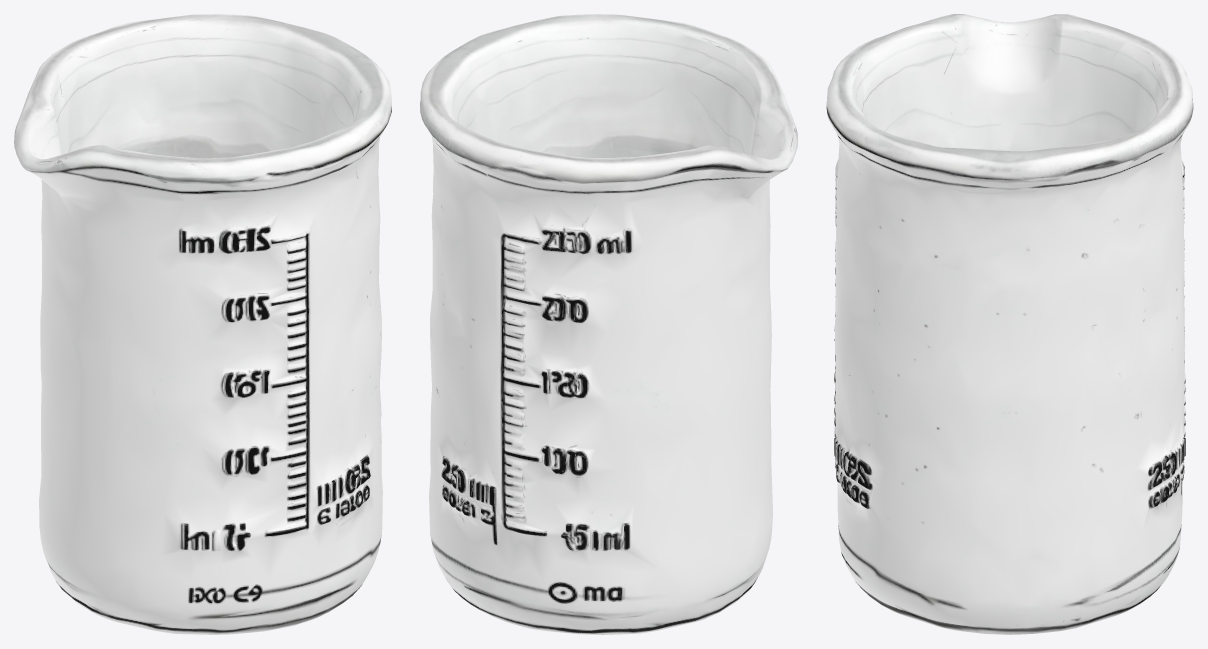
File: beaker.glb
3 views of the same model, side by side, from view 1: azimuth 30°, elevation 25°; view 2: azimuth 150°, elevation 25°; view 3: azimuth 270°, elevation 25° (orthographic).
Visible parts, largest first — view 1: Mesh1.0; view 2: Mesh1.0; view 3: Mesh1.0.
Boxes of the visible parts, x1,y1,x2,y2 form: Mesh1.0: (14,14,391,634); Mesh1.0: (420,14,797,634); Mesh1.0: (826,14,1193,634).
Size of the model in its own units: 1.41 by 1.91 by 1.3.
Materials: 1 (1 with a texture image).
